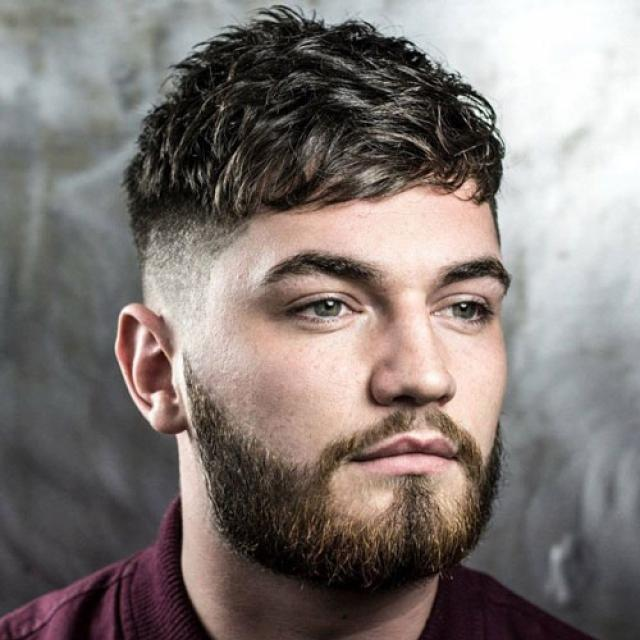mobile_phonerotation: (0, 1, 639, 639)
